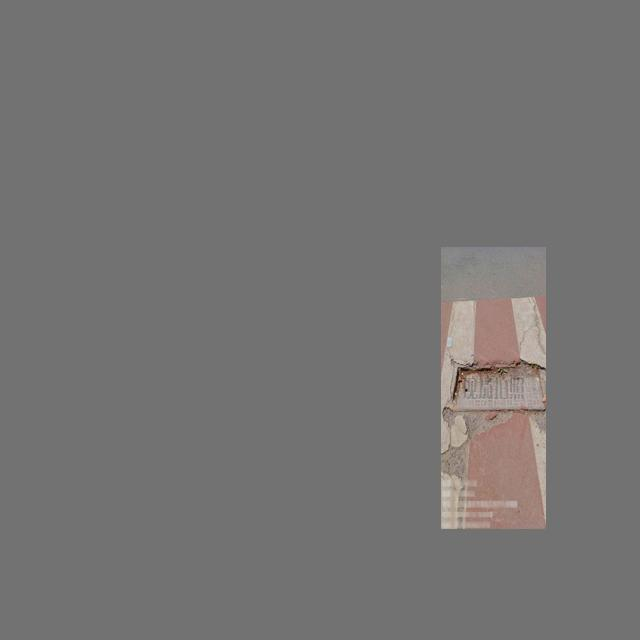circle: (449, 364, 546, 414)
